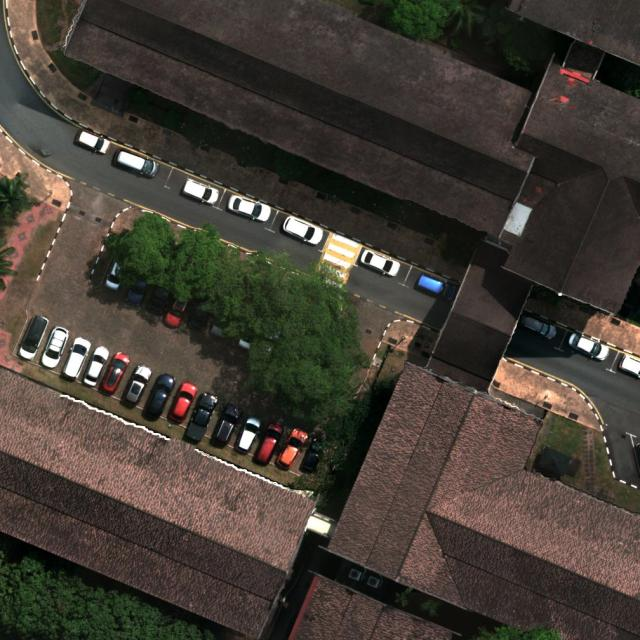Tree: (248, 264, 362, 427), (216, 248, 295, 340), (162, 219, 228, 303), (103, 212, 178, 285), (390, 0, 452, 39), (0, 174, 42, 217), (450, 0, 488, 38), (418, 599, 444, 618), (394, 586, 413, 608)
